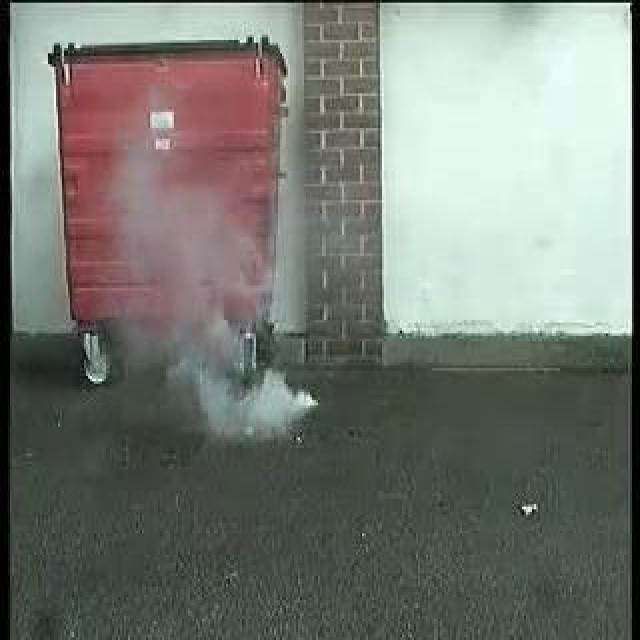Smoke: (118, 173, 316, 443)
